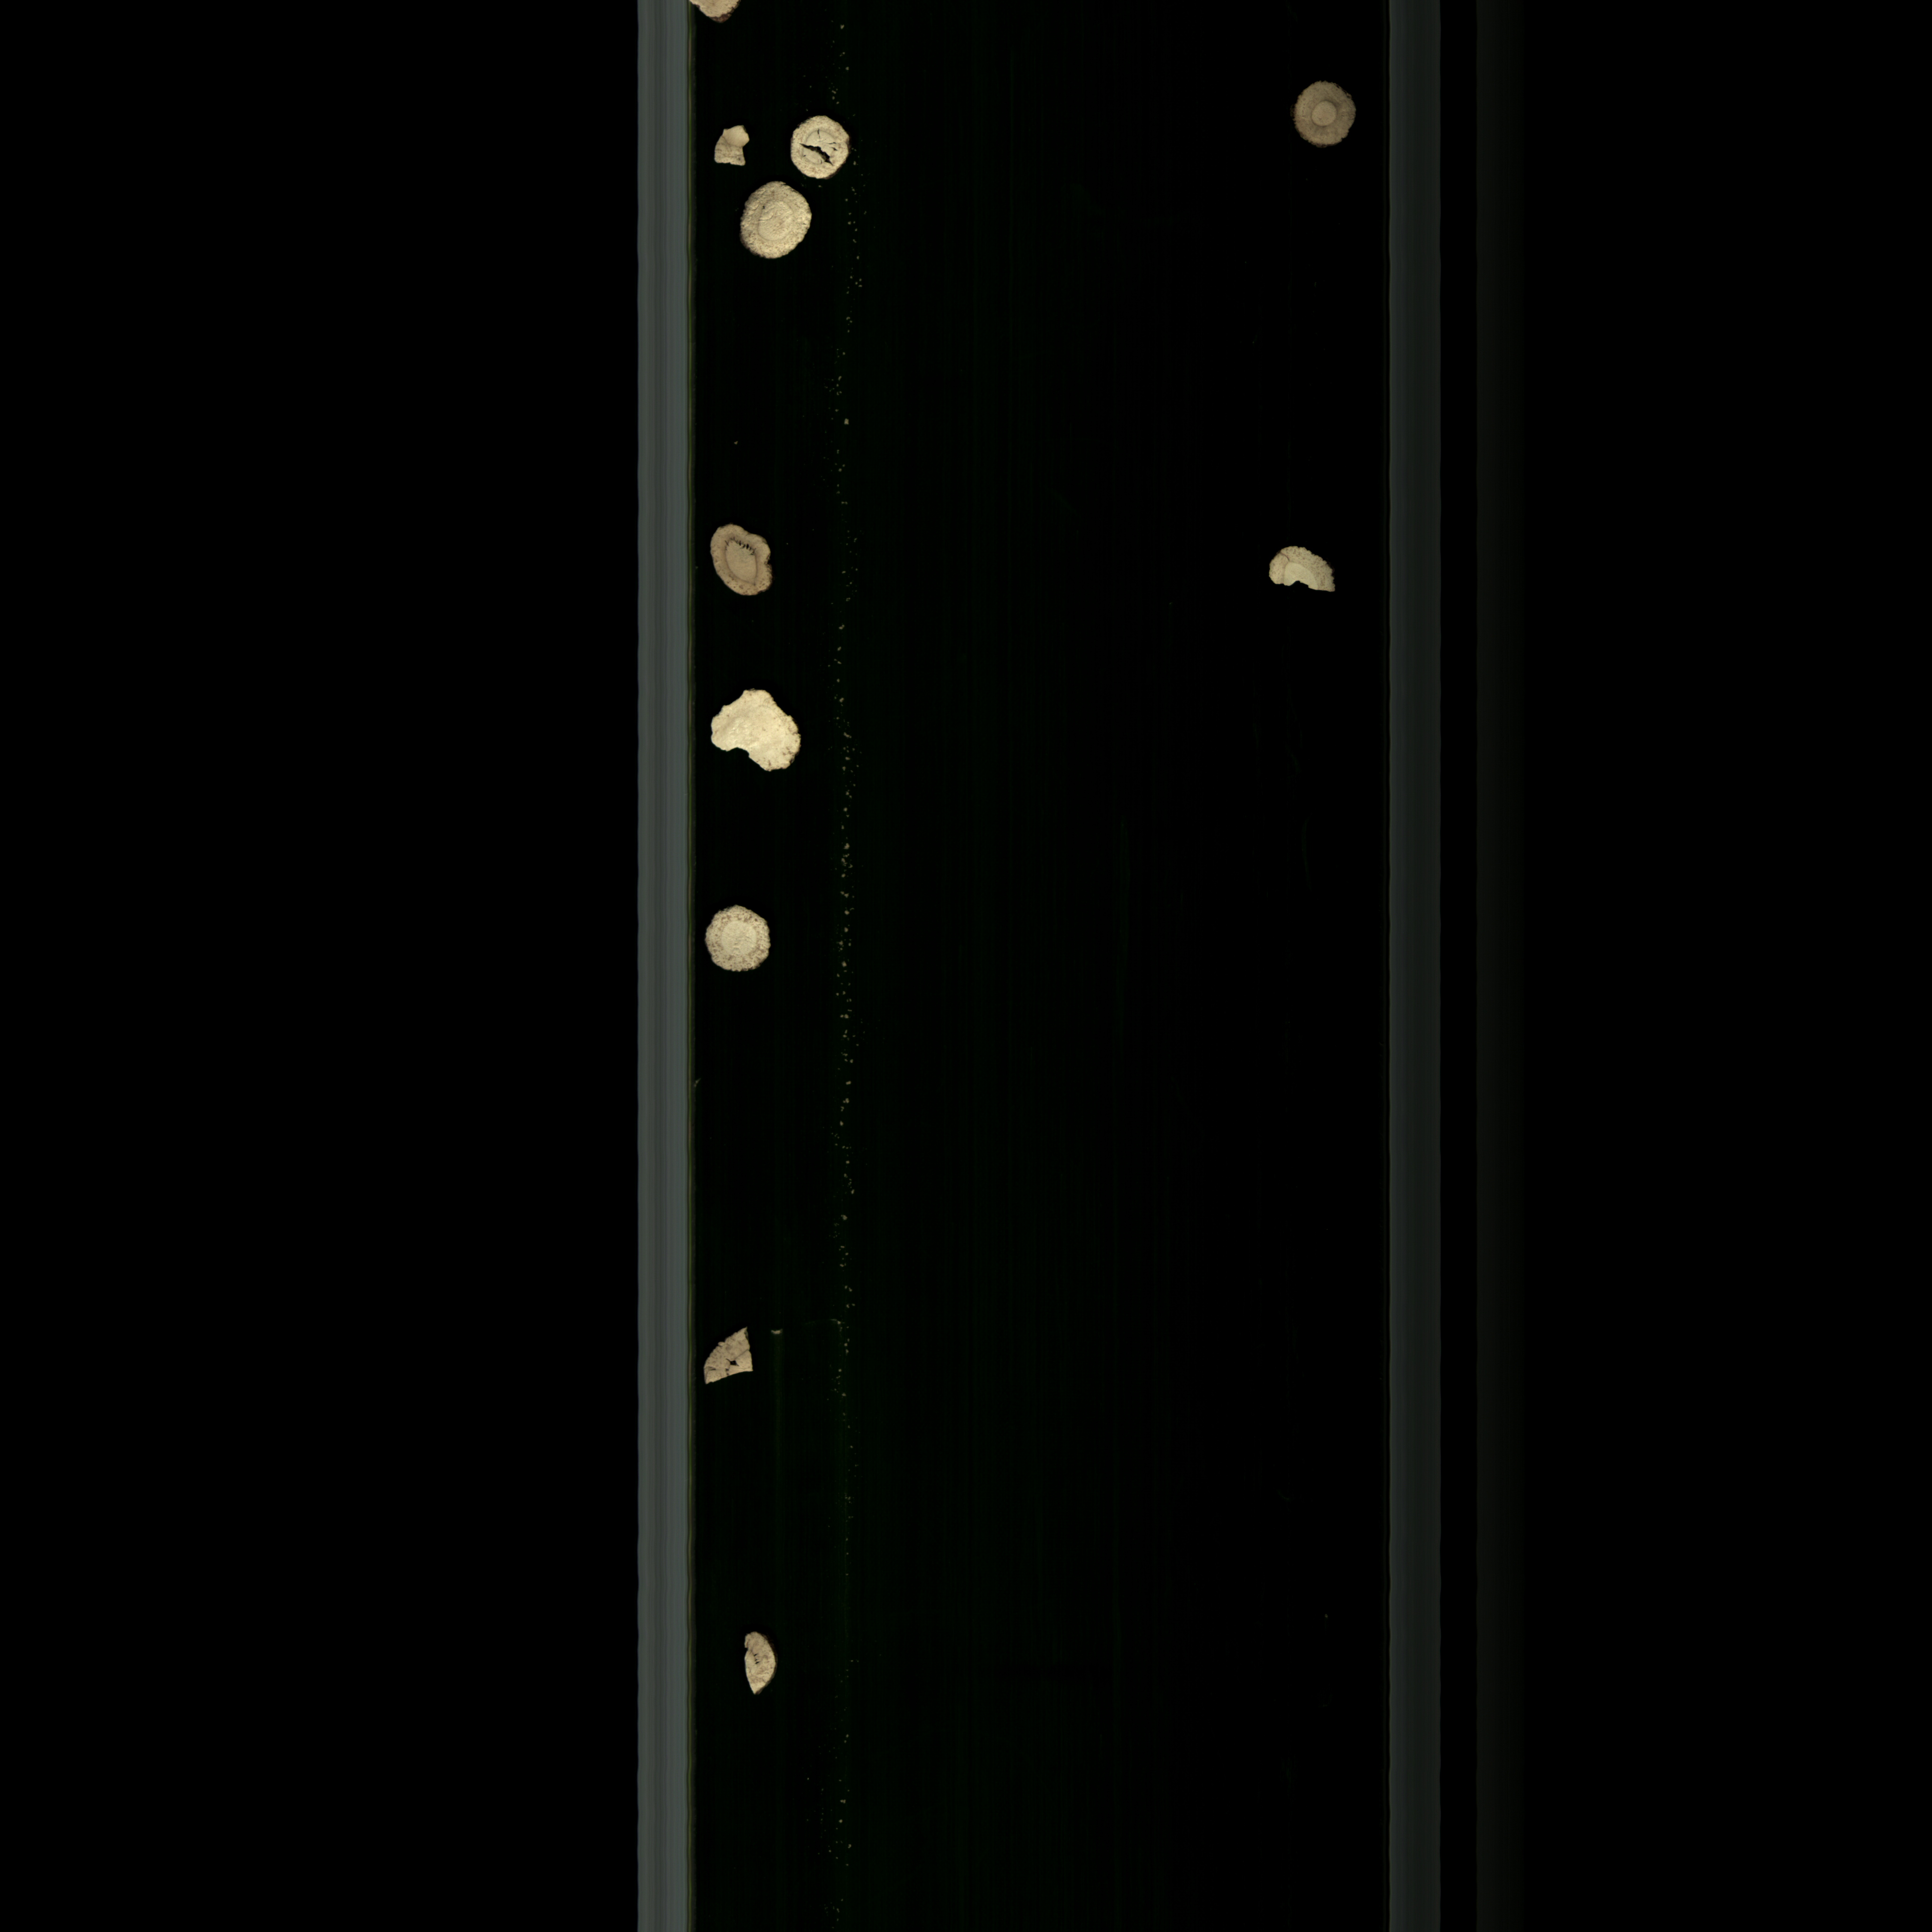debris: (1253, 540, 1355, 609)
distortion: (695, 676, 816, 800), (704, 515, 784, 607)
dreg: (732, 1617, 796, 1721), (697, 1318, 763, 1391), (704, 117, 759, 180)
hole: (777, 110, 865, 184)
moldy: (1277, 81, 1368, 154)
